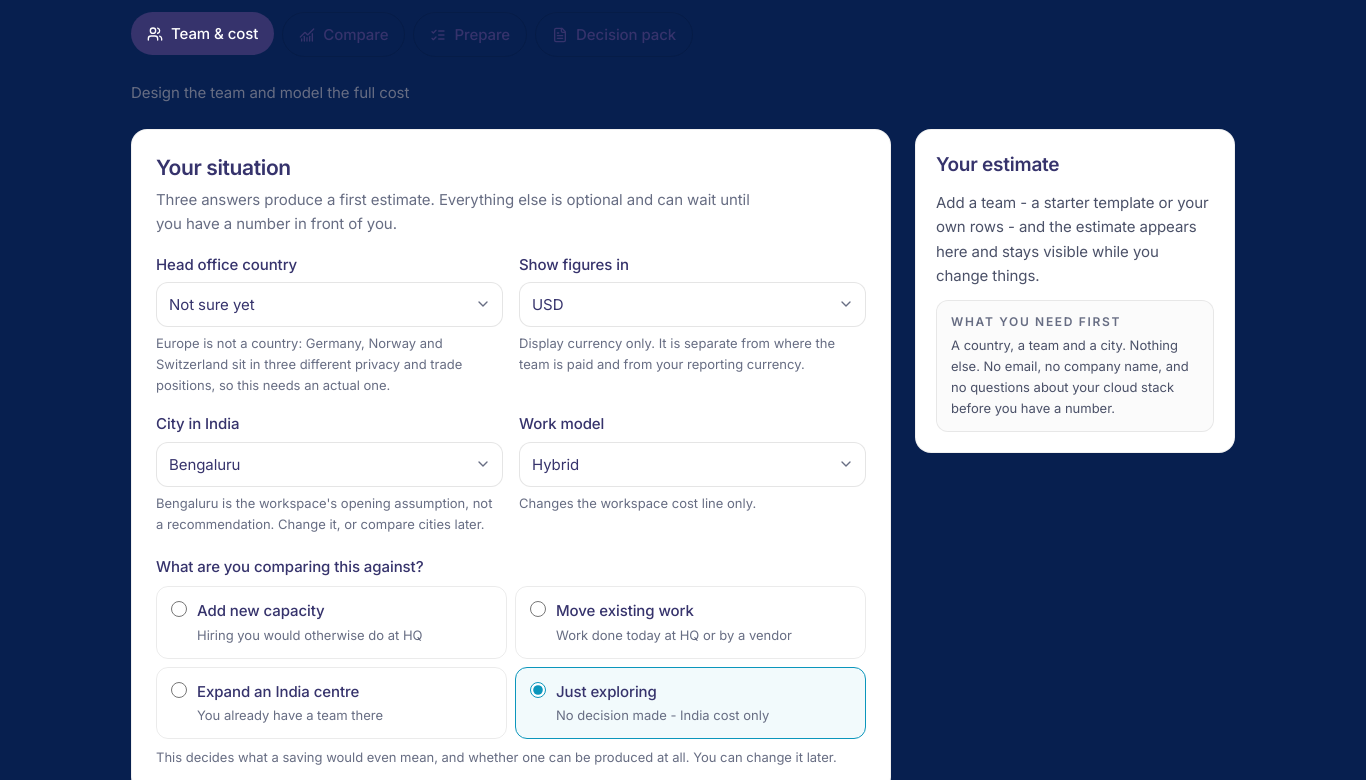
Scenario: the workspace › labels the opening city as an assumption until one is chosen
Expected: the text "opening assumption" is shown, x1=156 y1=495 x2=492 y2=532
Select "Hyderabad" in the dropdown labelled "City in India" at (330, 464), box x1=156 y1=442 x2=503 y2=487
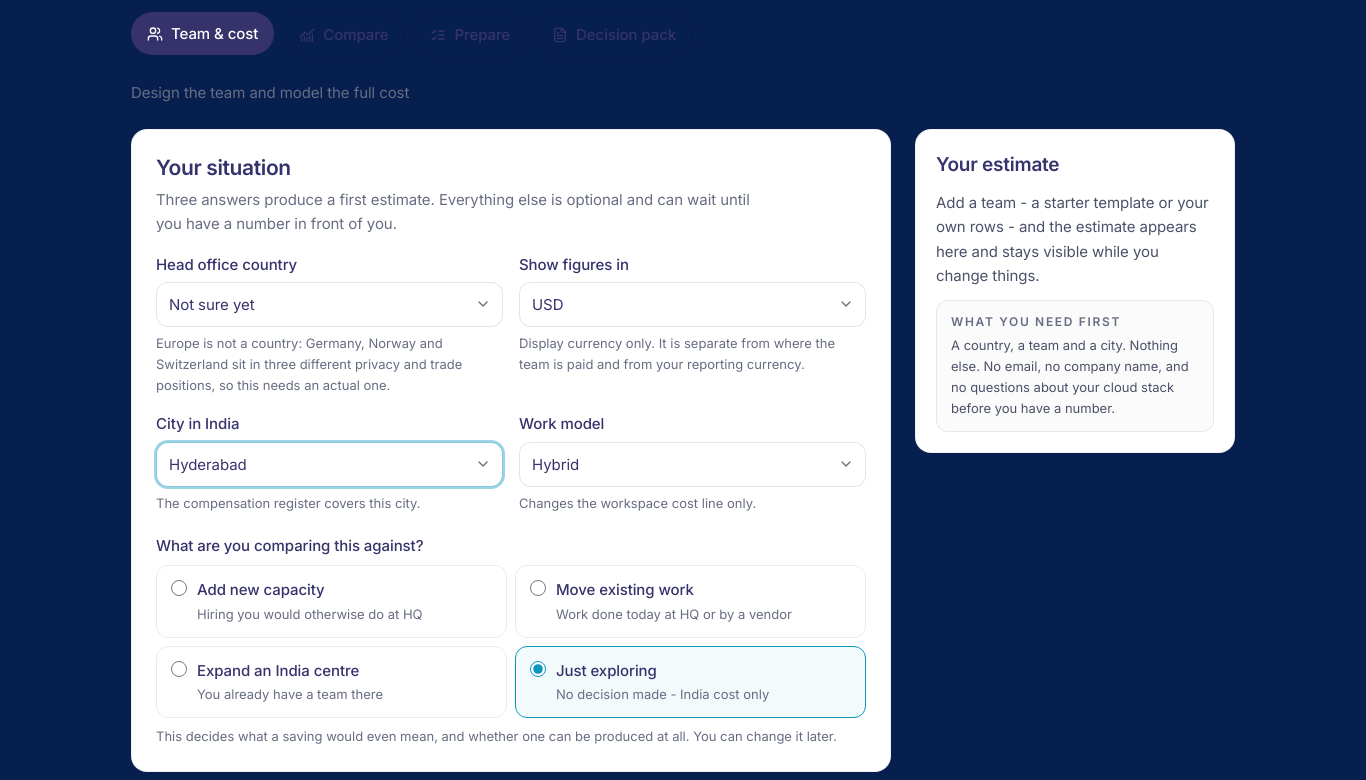
Result: the text "is the workspace's opening assumption, not a recommendation" is gone
